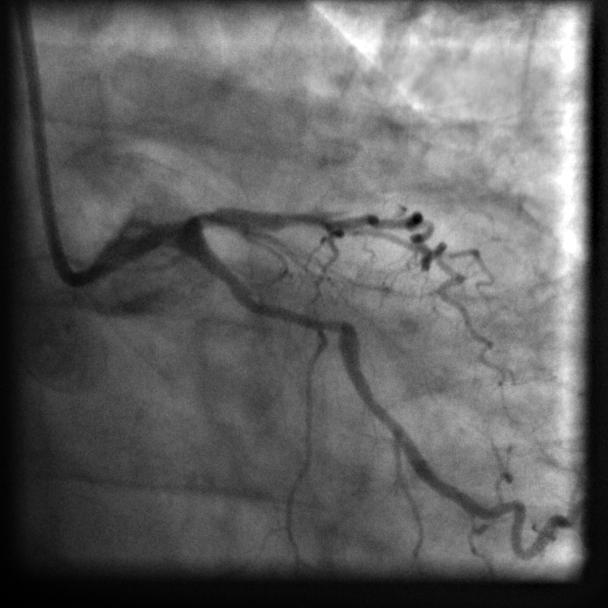Stenosis: (255, 293, 342, 339)
